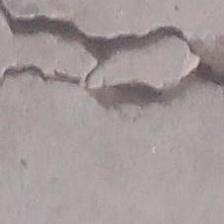Crack: (0, 2, 224, 105)
